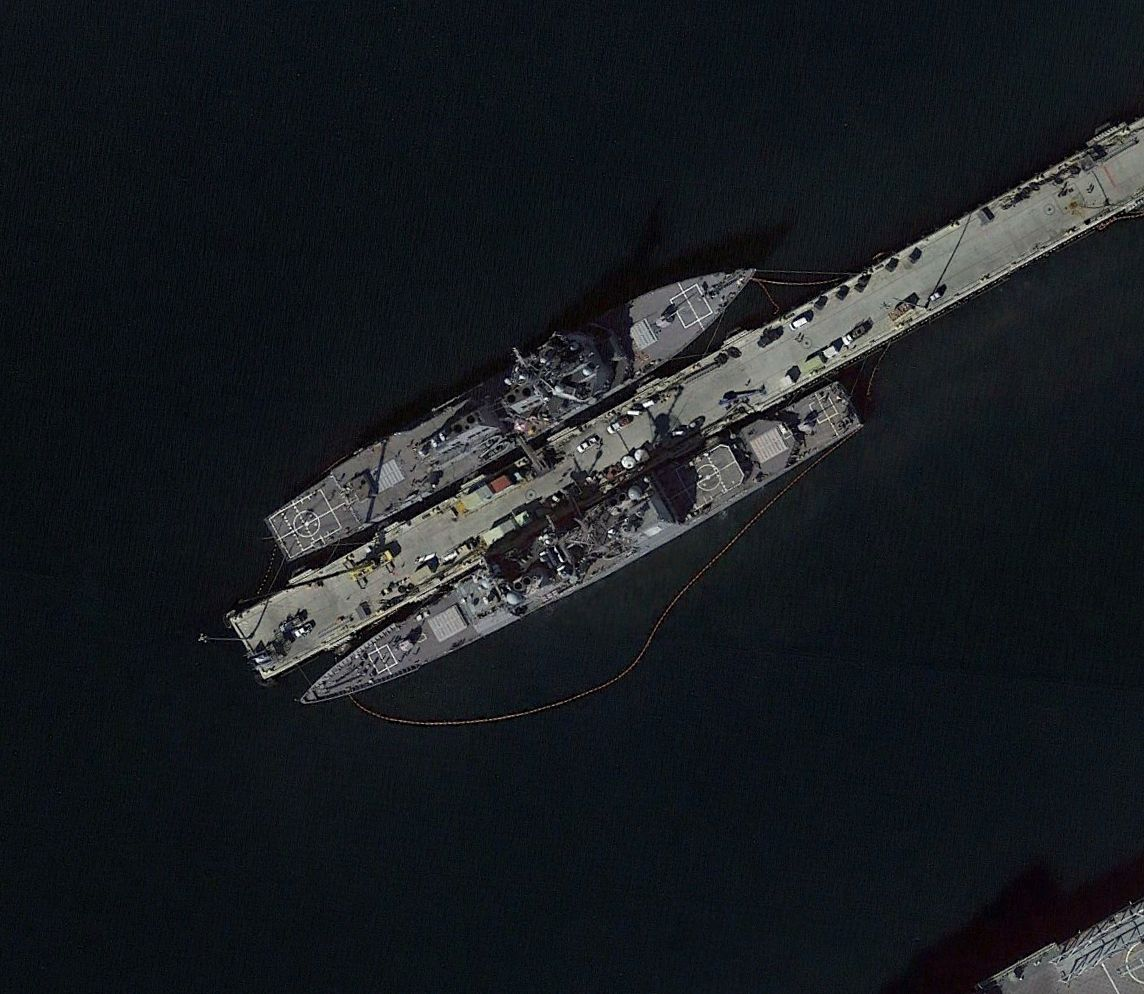boat: (297, 377, 872, 711), (262, 262, 763, 559)
